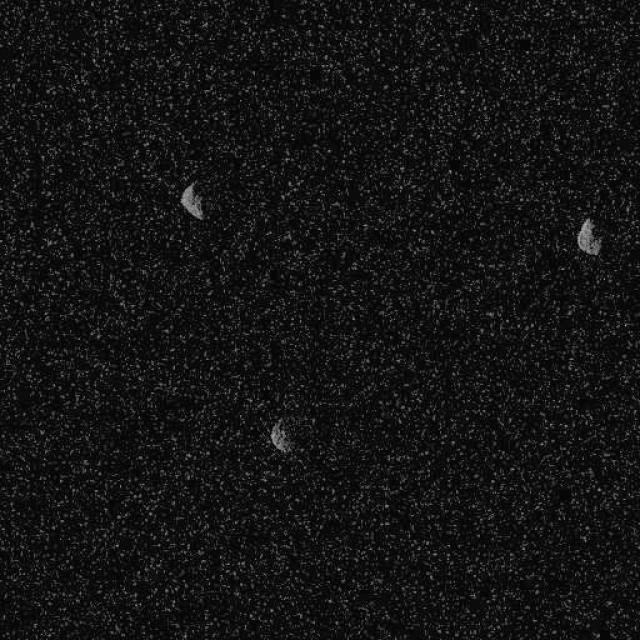D2: (179, 179, 205, 220), (575, 216, 601, 256), (268, 418, 292, 453)
